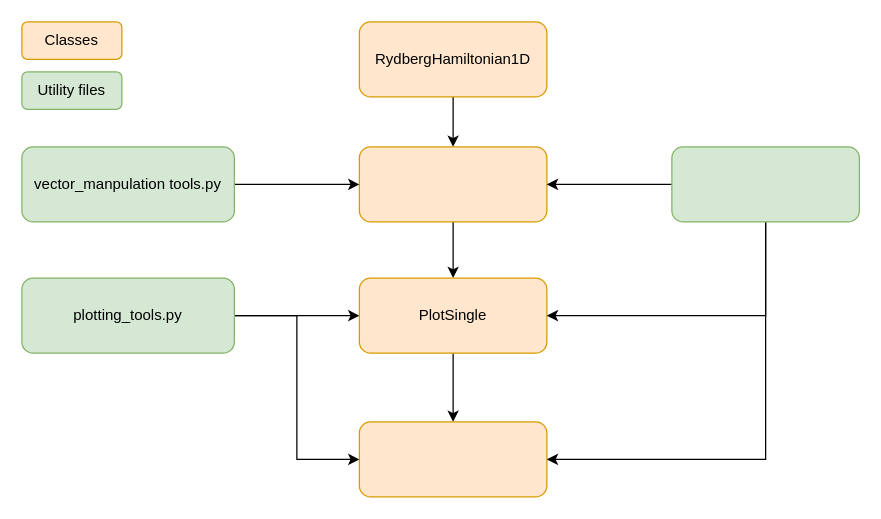
Image size: 881x519. Some labels were removed from this diagram. Each missing label, with the box of its shape:
data_analysis.py: (671, 146, 859, 222)
PlotCombine: (358, 421, 547, 497)
TimeEvolution: (358, 146, 547, 222)
